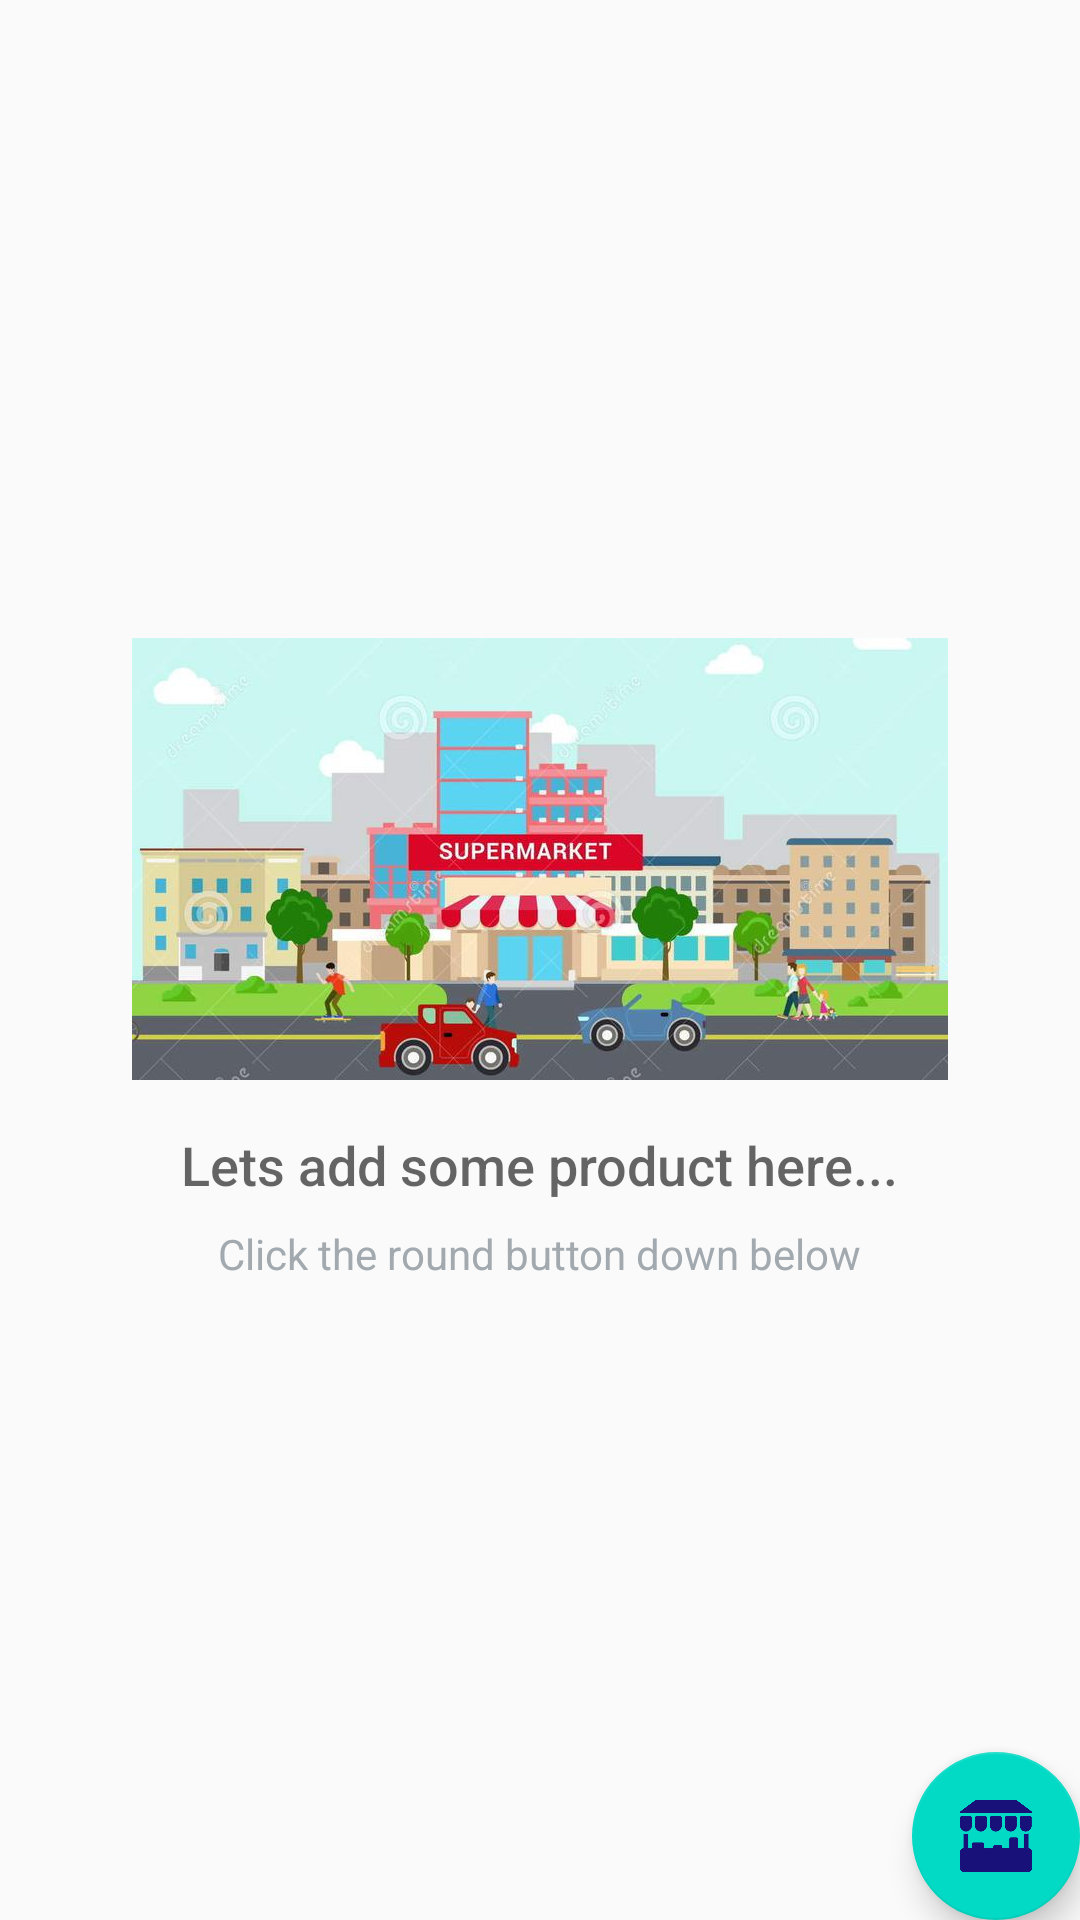

Screen size 1080px×1920px. Icon name, then its center in pixels as point (x, y):
mall stand: point (996, 1836)
